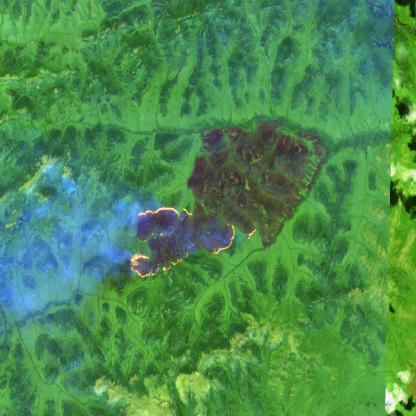fire: (128, 198, 235, 283)
